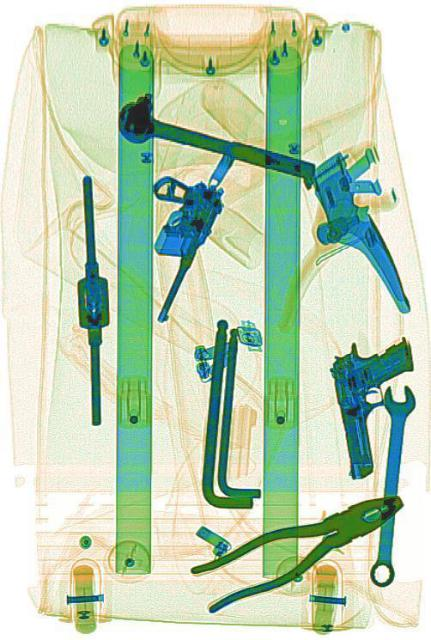Gun: (107, 145, 228, 329), (325, 324, 429, 481)
Pliers: (187, 474, 408, 620)
Wrench: (361, 380, 416, 590)
